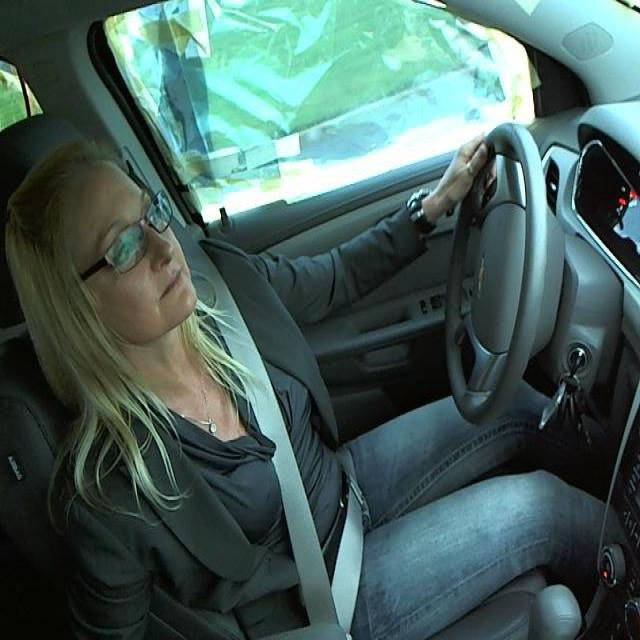seatbelt: (193, 316, 374, 631)
